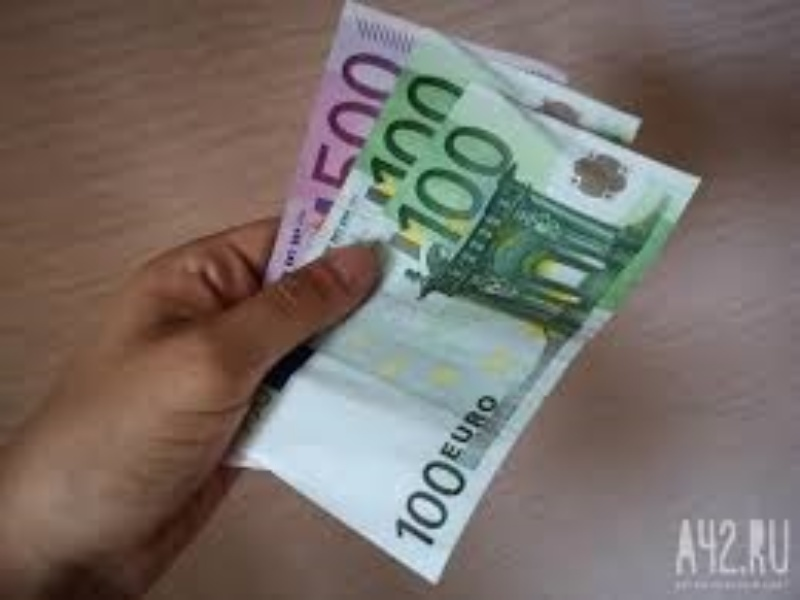cash: (227, 1, 700, 582)
